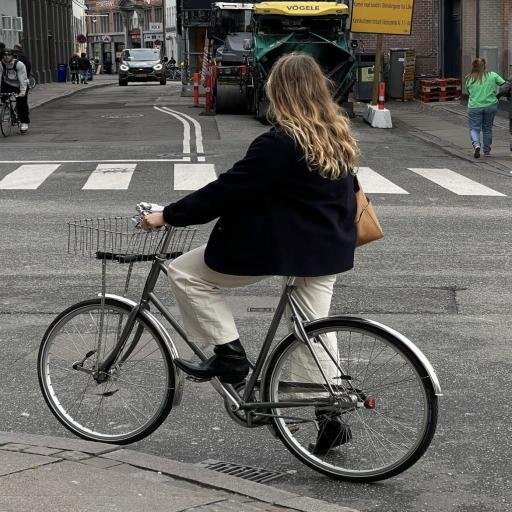bag: (38, 203, 441, 482), (0, 93, 21, 137)
book: (118, 48, 167, 86)
chair: (0, 160, 505, 196)
glass_wall: (0, 83, 512, 512)
